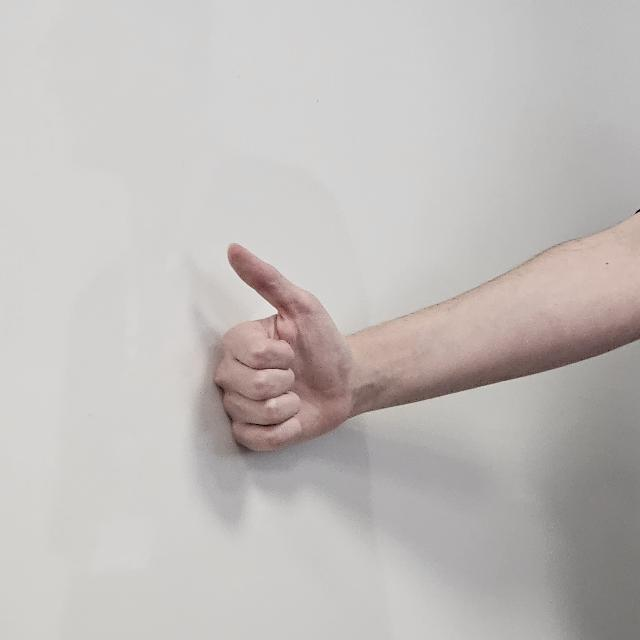Start: (214, 242, 356, 478)
